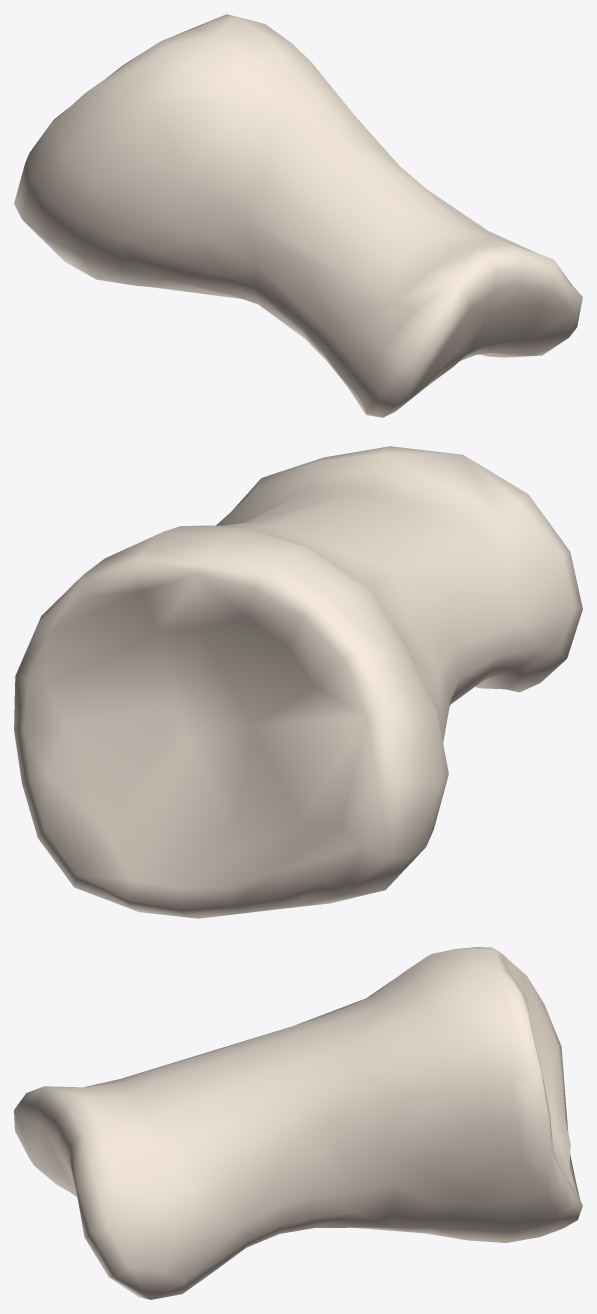
Rendered from left_toe_1_proximal.glb.
3 renders of one model, top to bottom at view 1: azimuth 30°, elevation 25°; view 2: azimuth 150°, elevation 25°; view 3: azimuth 270°, elevation 25°, orthographic. The views are drawn at different scales.
Parts seen in each view (by area): view 1: Proximal phalanx of first finger of foot.r; view 2: Proximal phalanx of first finger of foot.r; view 3: Proximal phalanx of first finger of foot.r.
Part boxes in pixels (x1,y1,x2,y2): Proximal phalanx of first finger of foot.r: [14, 14, 582, 417]; Proximal phalanx of first finger of foot.r: [14, 446, 582, 918]; Proximal phalanx of first finger of foot.r: [14, 947, 582, 1299].
Bounding box in the file's own units: 0.0151 × 0.0103 × 0.0207.
